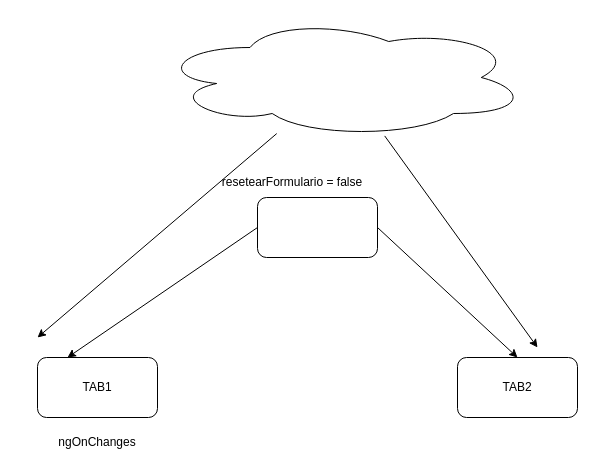
This 595x475 diagram has some shape labels left out. Here are the shapes that lost their labels. From the top down, the box of each, then its label:
(156, 16, 528, 138): PAGE.SERVICE resetearForm$
(256, 196, 378, 258): COMPONENTE PADRE
